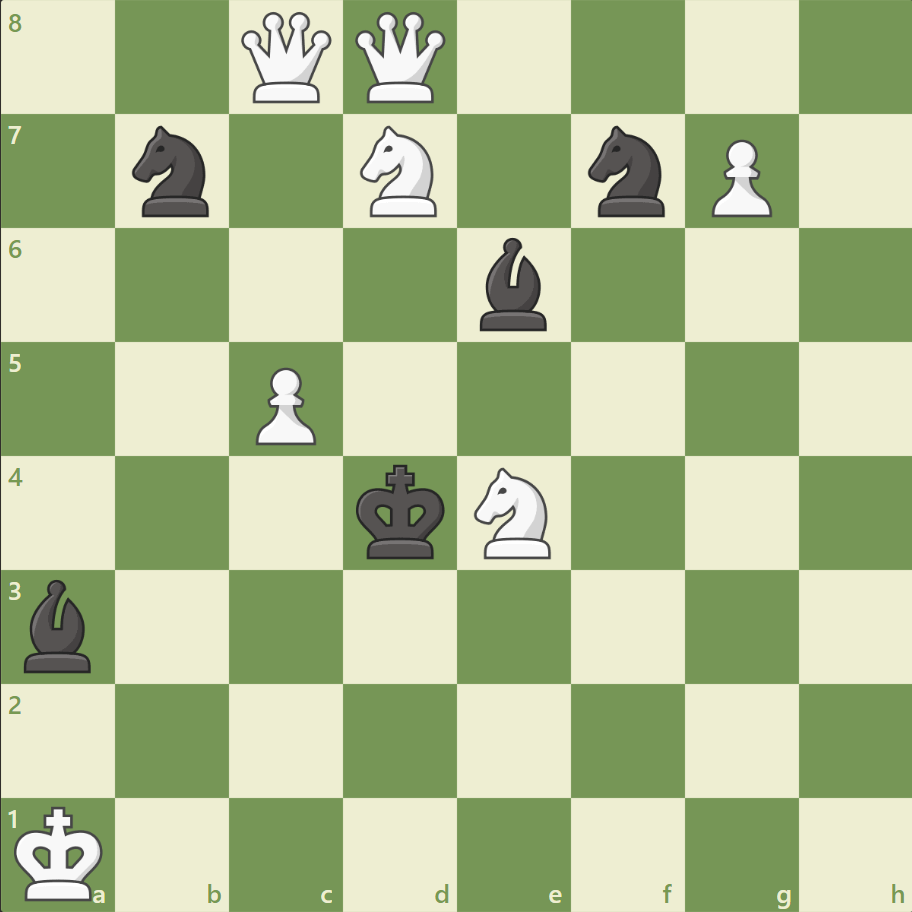K: (11, 798, 111, 906)
N: (351, 121, 449, 223), (465, 461, 562, 564)
P: (701, 132, 776, 223), (247, 359, 322, 450)
Q: (237, 9, 336, 108), (351, 9, 450, 108)
b: (471, 233, 555, 336), (17, 574, 101, 676)
k: (351, 458, 451, 566)
n: (124, 121, 222, 223), (579, 121, 676, 223)
